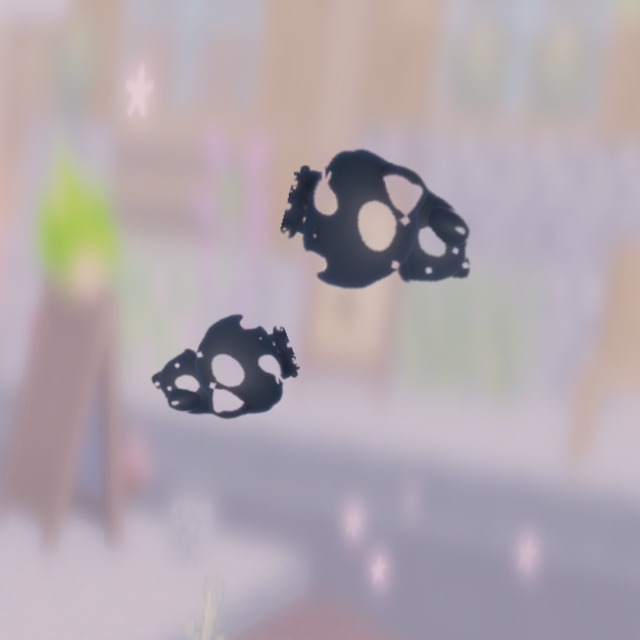urso_preto: (266, 128, 507, 334), (127, 289, 312, 454)
